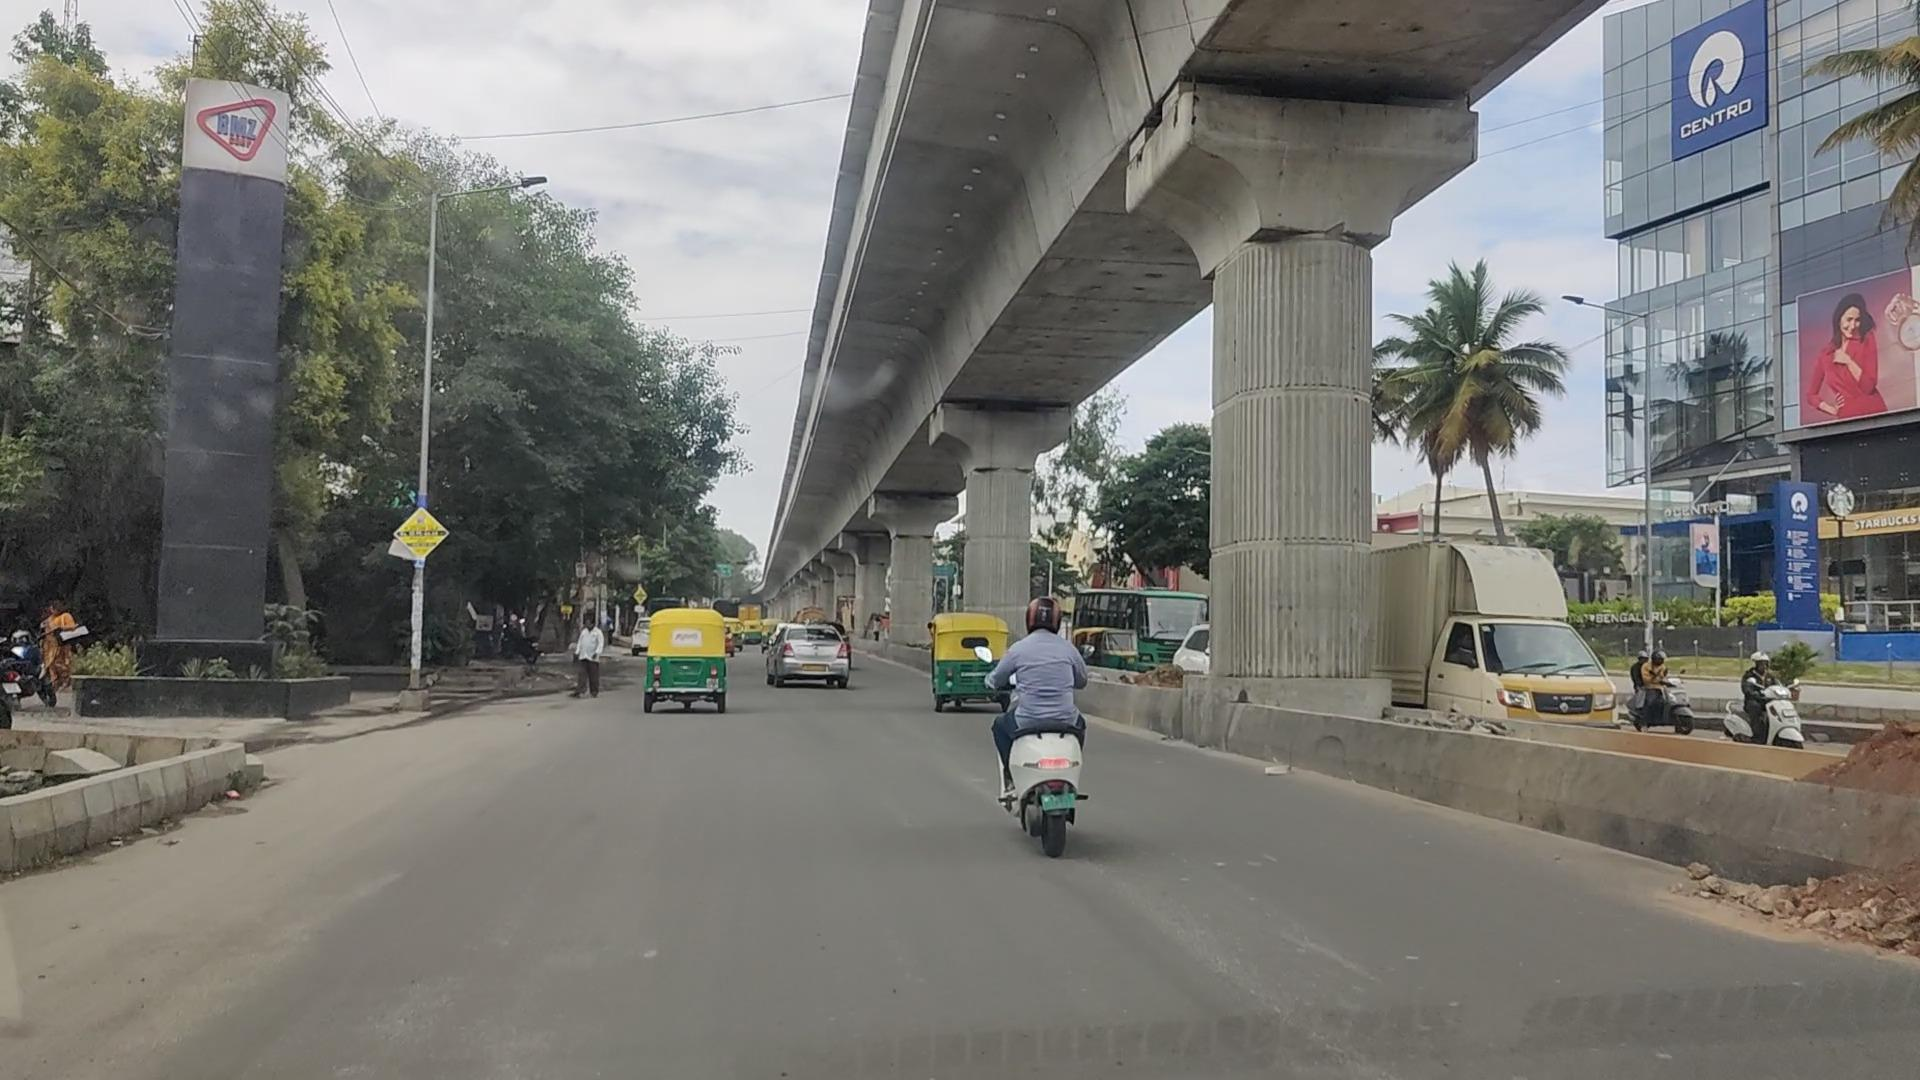LMV: (988, 585, 1104, 861), (640, 607, 729, 717)
